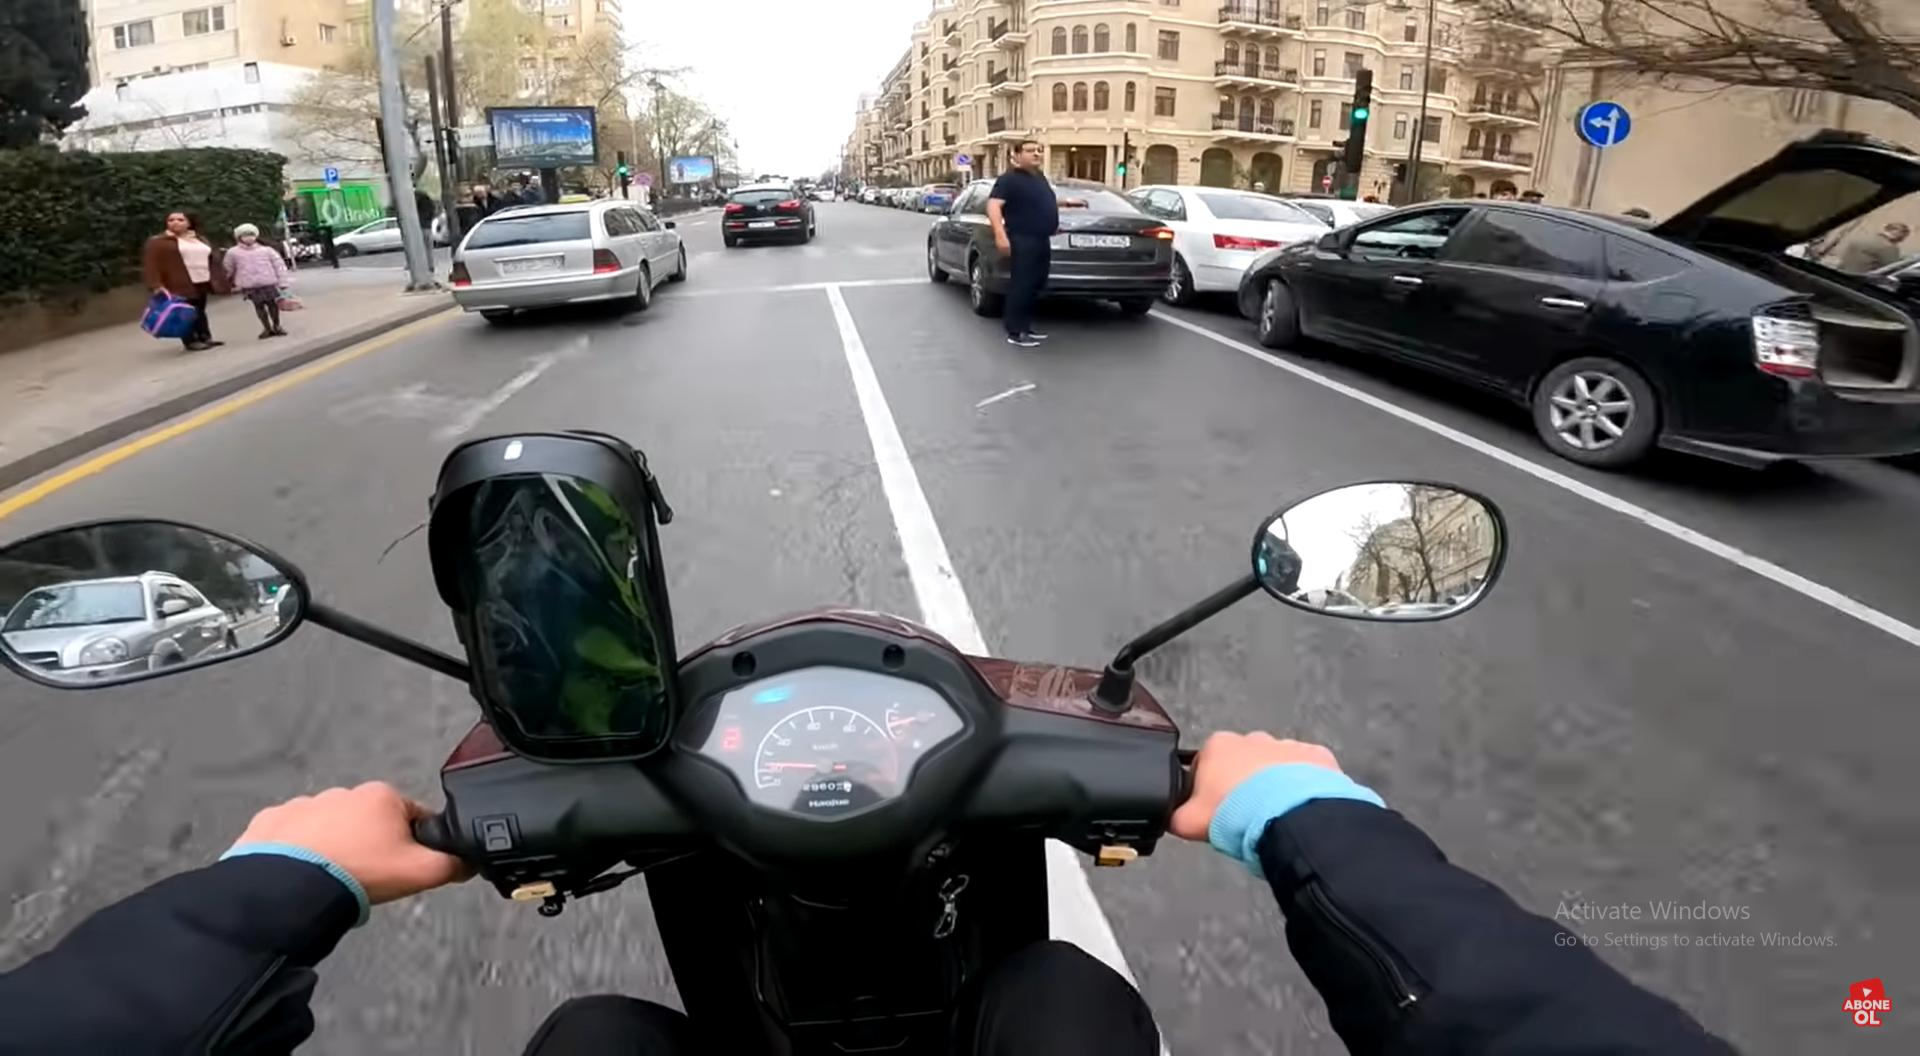banner: (491, 104, 602, 168)
